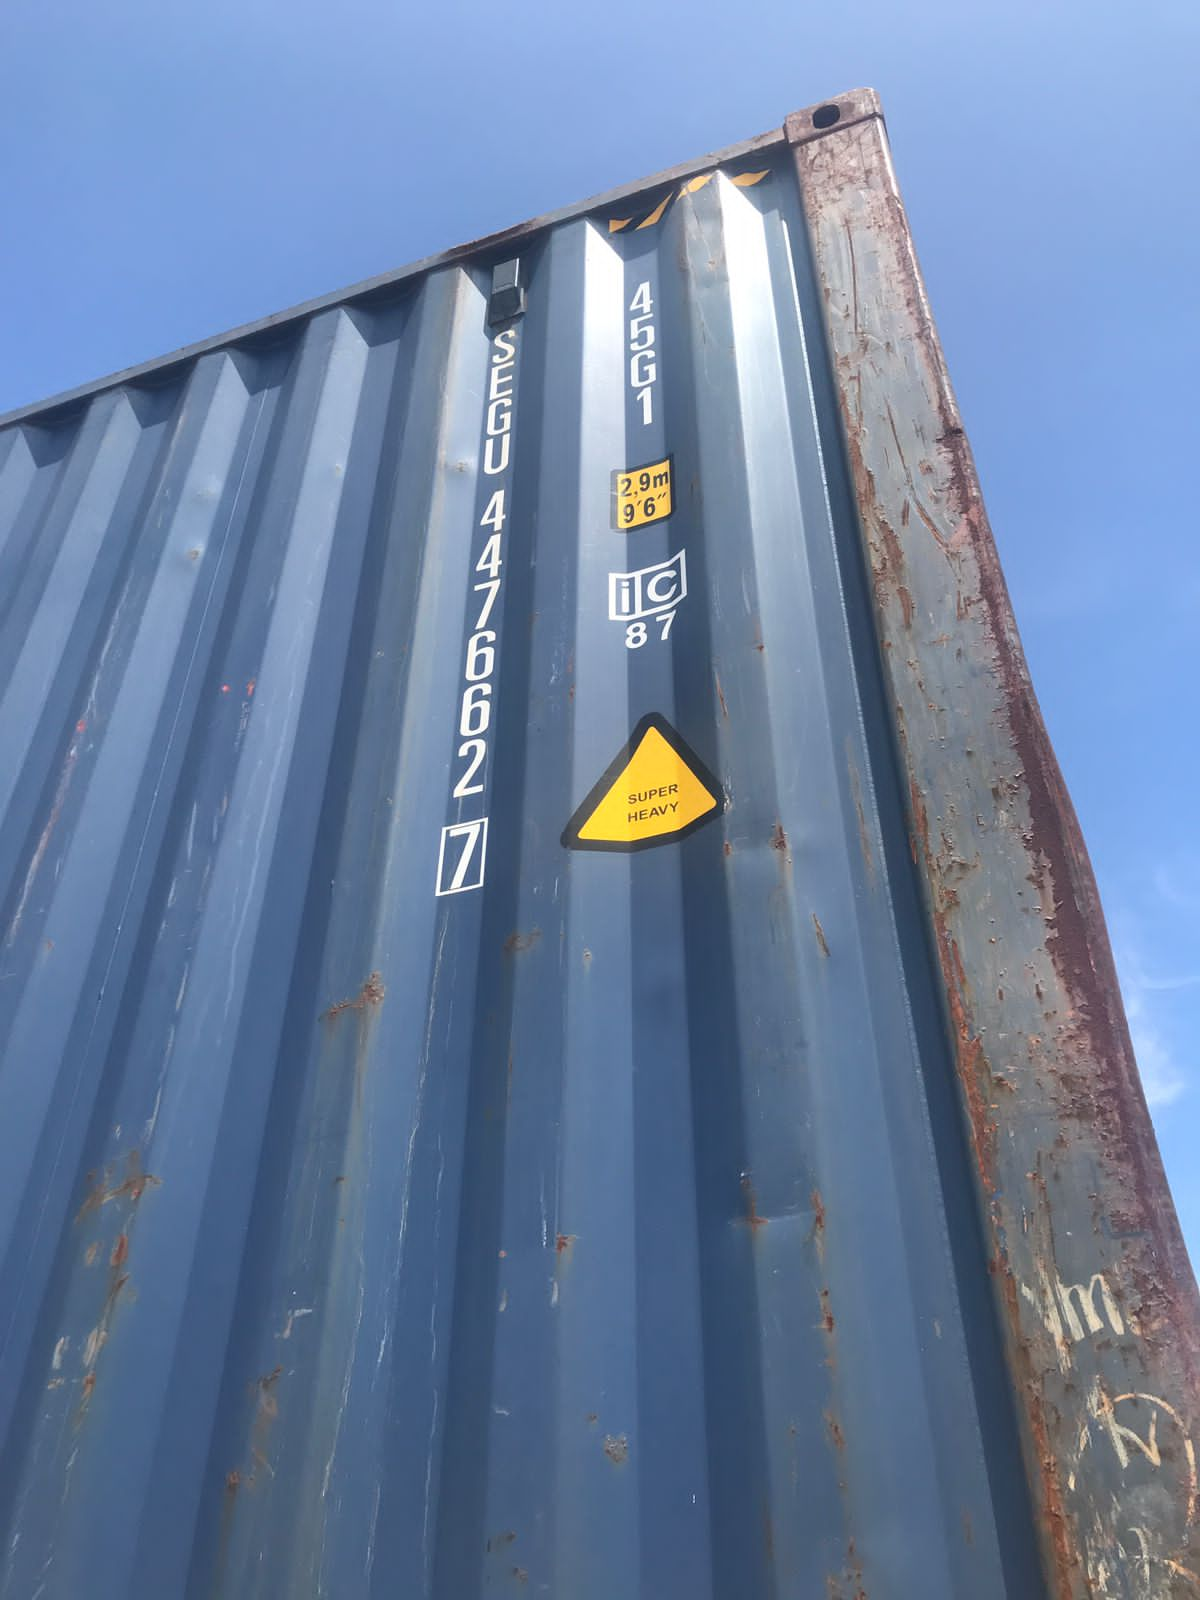rust: (788, 130, 1139, 1277), (40, 1128, 194, 1460), (274, 947, 427, 1043), (521, 1216, 594, 1311)
